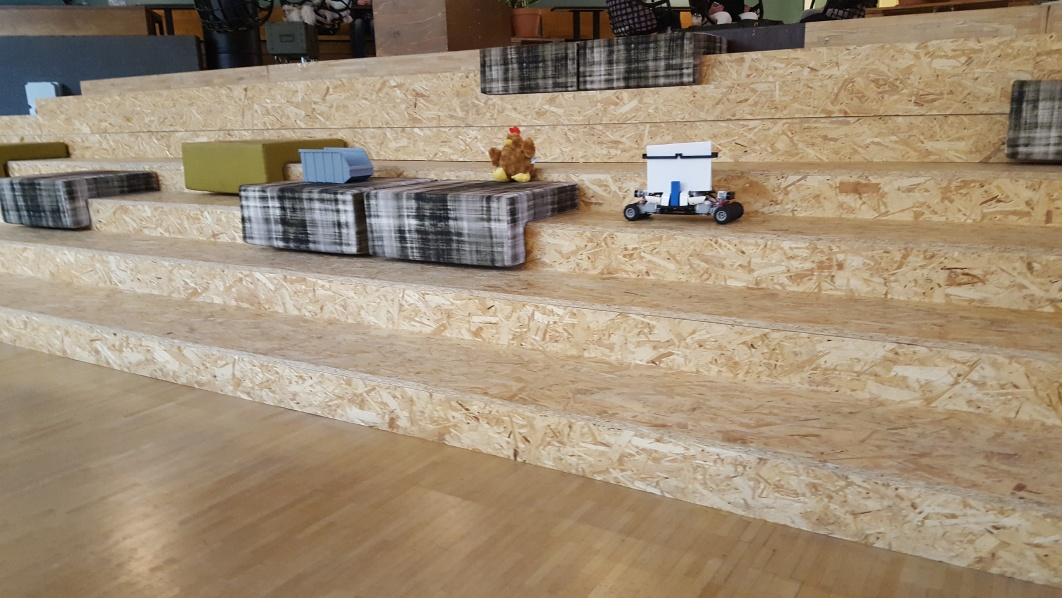beam: (667, 177, 683, 211)
chicken: (486, 126, 540, 181)
tray: (295, 144, 372, 184)
